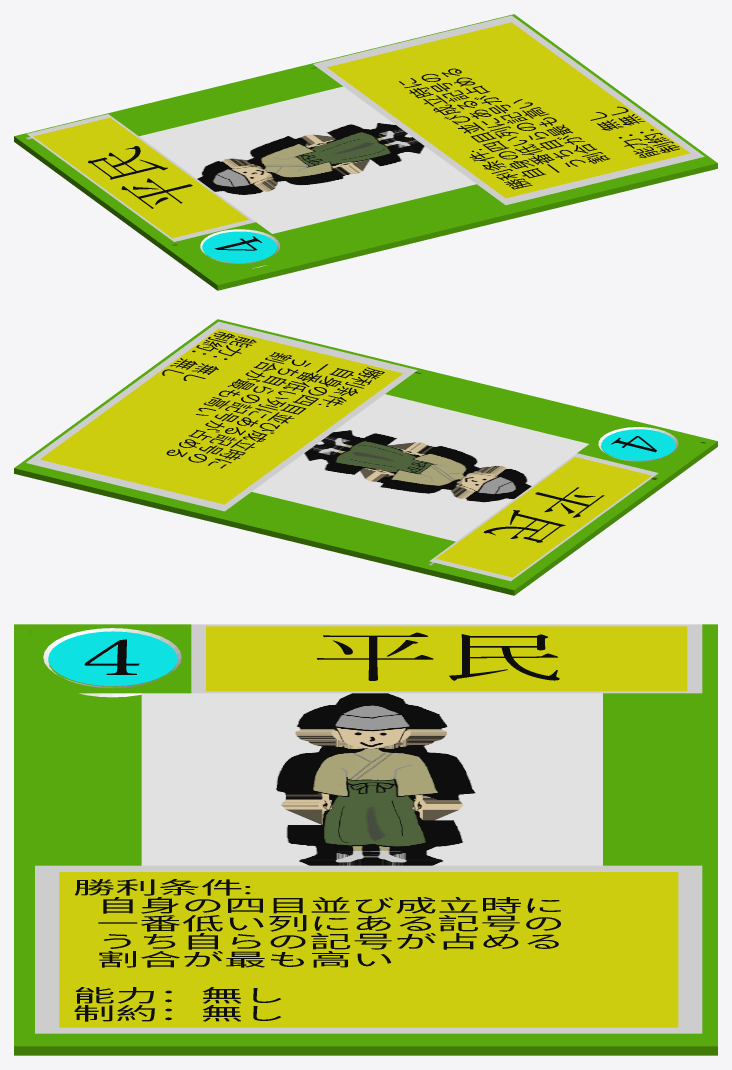
File: 平民緑.fbx
3 renders of one model, top to bottom at view 1: azimuth 30°, elevation 25°; view 2: azimuth 150°, elevation 25°; view 3: azimuth 270°, elevation 25°, orthographic. The views are drawn at different scales.
Visible parts, largest first — view 1: 説明欄, 平面.001, カード本体.001, 名前欄, 説明文, 円, 平面, 名前; view 2: 説明欄, 平面.001, カード本体.001, 名前欄, 説明文, 円, 平面, 名前; view 3: 説明欄, 平面.001, カード本体.001, 名前欄, 説明文, 平面, 円, 名前, コスト蘭.
Boxes of the visible parts, x1,y1,x2,y2 form: 説明欄: (313, 15, 704, 205); 平面.001: (139, 86, 476, 233); カード本体.001: (14, 14, 717, 290); 名前欄: (27, 114, 255, 241); 説明文: (399, 68, 679, 189); 円: (202, 231, 276, 262); 平面: (174, 222, 302, 275); 名前: (88, 146, 192, 208); 説明欄: (26, 321, 417, 511); 平面.001: (252, 394, 588, 541); カード本体.001: (14, 319, 717, 595); 名前欄: (429, 453, 658, 581); 説明文: (162, 331, 384, 468); 円: (601, 429, 675, 460); 平面: (577, 419, 704, 472); 名前: (483, 487, 604, 542); 説明欄: (35, 865, 702, 1033); 平面.001: (141, 693, 602, 865); カード本体.001: (14, 624, 717, 1055); 名前欄: (191, 624, 702, 693); 説明文: (74, 879, 560, 1021); 平面: (30, 624, 191, 693); 円: (48, 631, 177, 686); 名前: (317, 632, 559, 680); コスト蘭: (43, 628, 181, 697).
Size of the model in its own units: 281 by 6.07 by 198.
